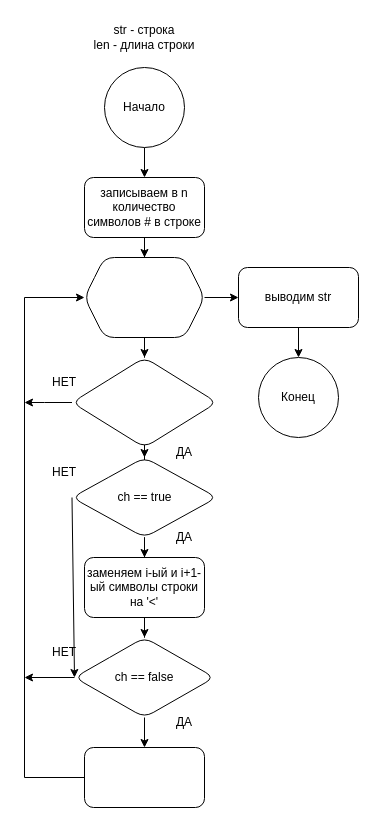
This 376x825 diagram has some shape labels left out. Here are the shapes that lost their labels. From the top down, the box of each, then its label:
(84, 256, 204, 338): от i до len-n/2 с шагом 1
(71, 356, 217, 448): если i-ый и i+1-ый символы строки - '#'
(84, 746, 204, 808): заменяем i-ый и i+1-ый символы строки на '>'
